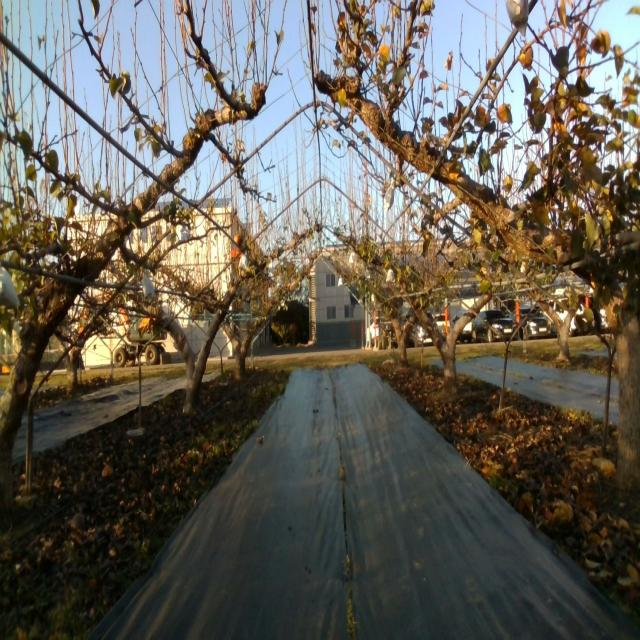pearbags: (504, 0, 528, 38), (0, 262, 20, 307), (384, 180, 395, 213), (141, 275, 155, 298), (238, 251, 248, 271)
